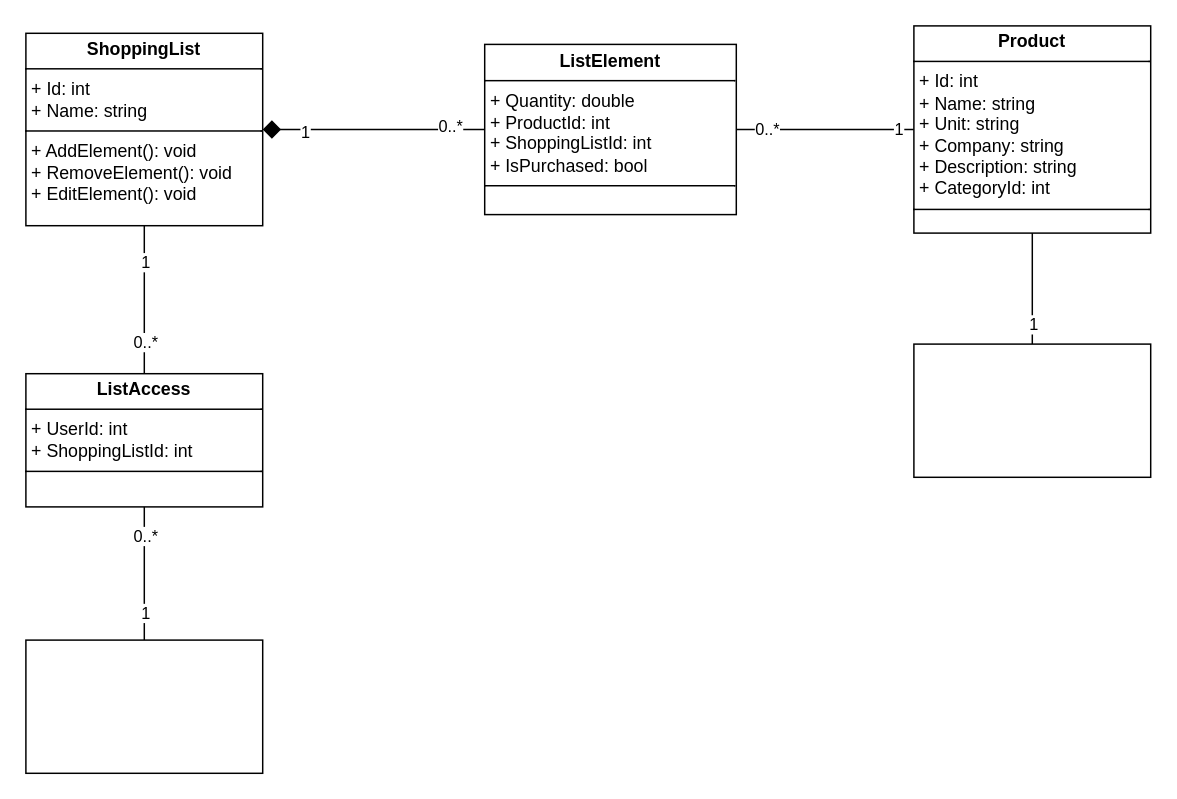
The diagram is 1177 pixels wide and 799 high, and some of its shapes have lost their labels. Each missing label, with the centre of its shape:
ProductCategory + Id: int + Name: String: (1031,410)
User + Id: int + Name: string: (143,706)
